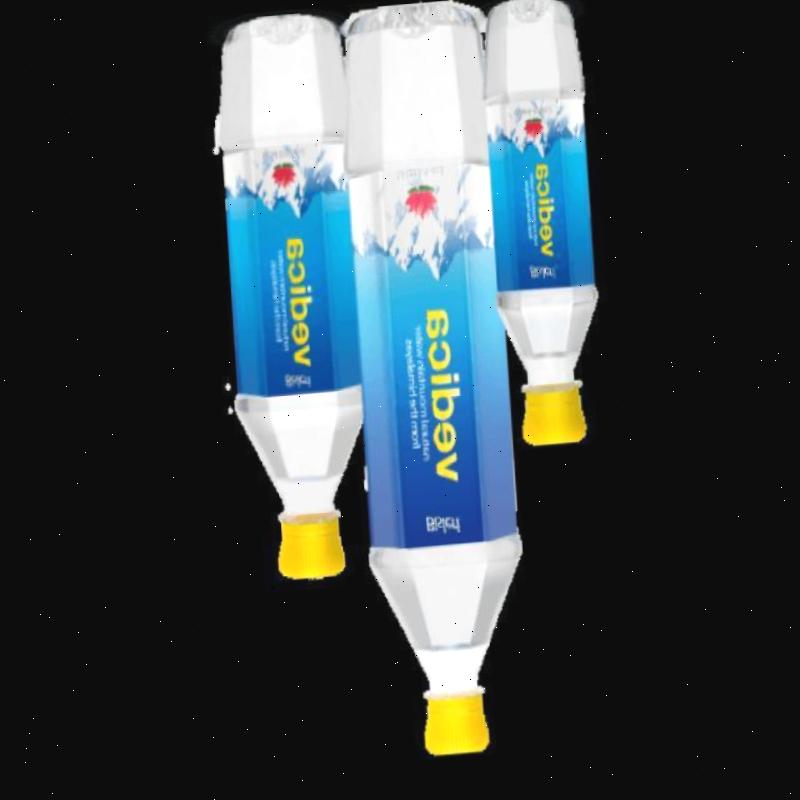botella: (337, 3, 528, 765), (211, 13, 374, 585), (476, 0, 604, 456)
